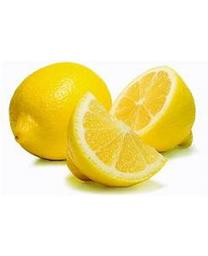lemon: (10, 62, 112, 160), (64, 91, 165, 187), (108, 66, 196, 153)
